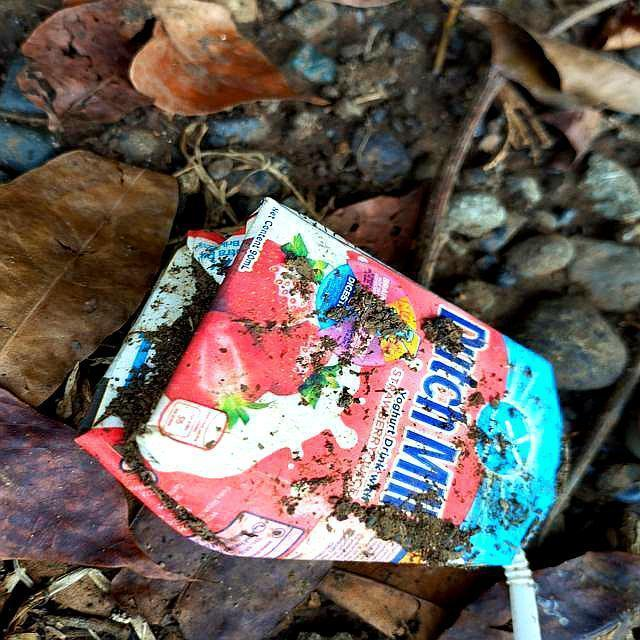Biodegradable: (42, 160, 596, 618)
